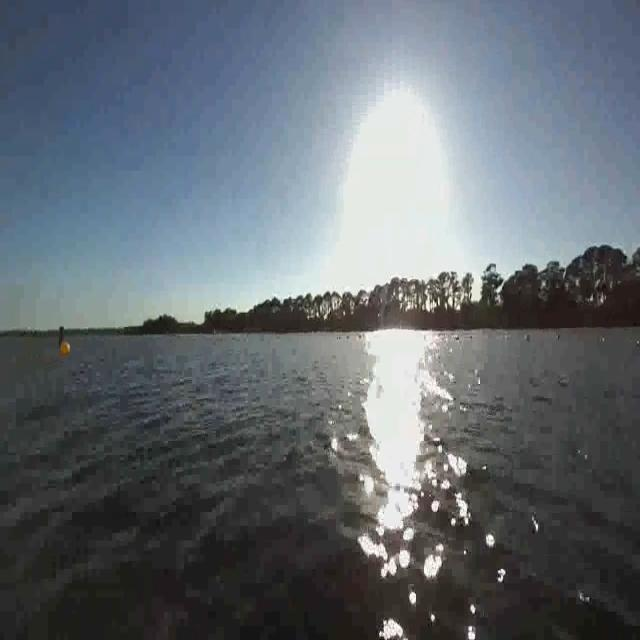yellow-buoy: (60, 340, 72, 358)
